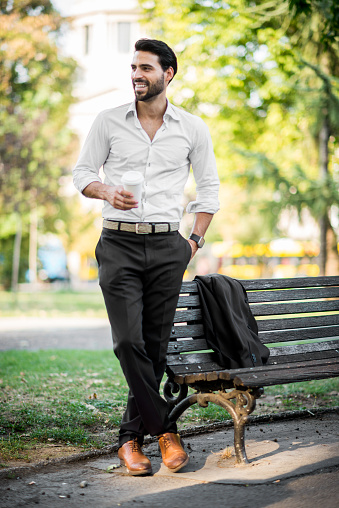em pe: (59, 28, 212, 464)
